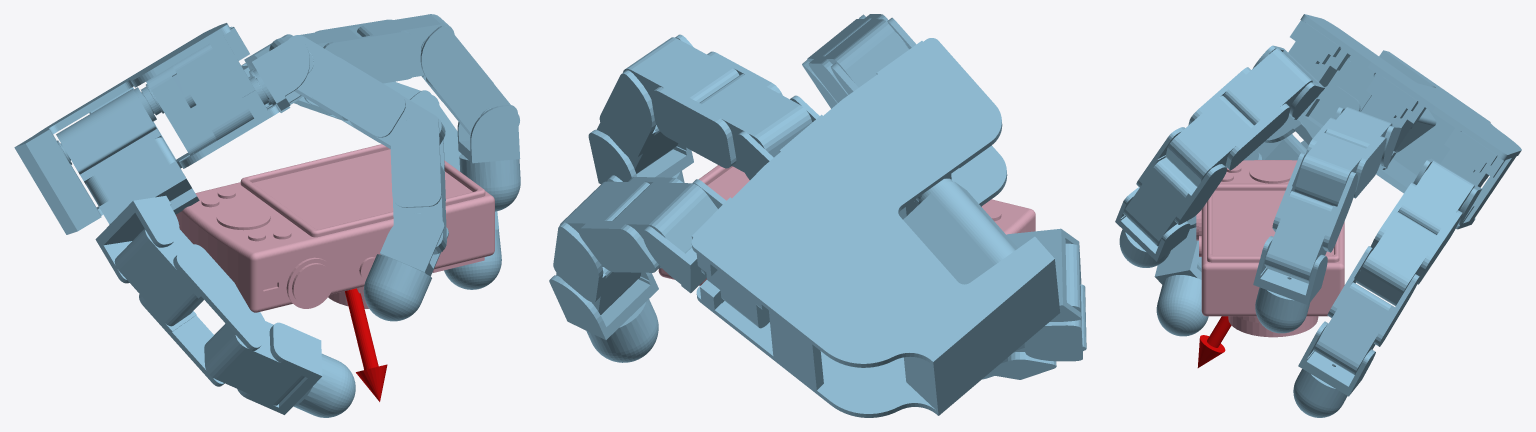
The picture shows the model from 3 angles, left to right: view 1: azimuth 30°, elevation 25°; view 2: azimuth 150°, elevation 25°; view 3: azimuth 270°, elevation 25°; orthographic projection. The views are drawn at different scales.
Parts seen in each view (by area): view 1: world, camera.stl; view 2: world, camera.stl; view 3: world, camera.stl.
Part boxes in pixels (x1,y1,x2,y2): world: [14, 14, 520, 417]; camera.stl: [176, 144, 494, 312]; world: [549, 14, 1086, 417]; camera.stl: [658, 165, 1035, 285]; world: [1115, 14, 1521, 417]; camera.stl: [1196, 160, 1344, 337].
Bounding box in the file's own units: 0.2045 × 0.1566 × 0.1843.
